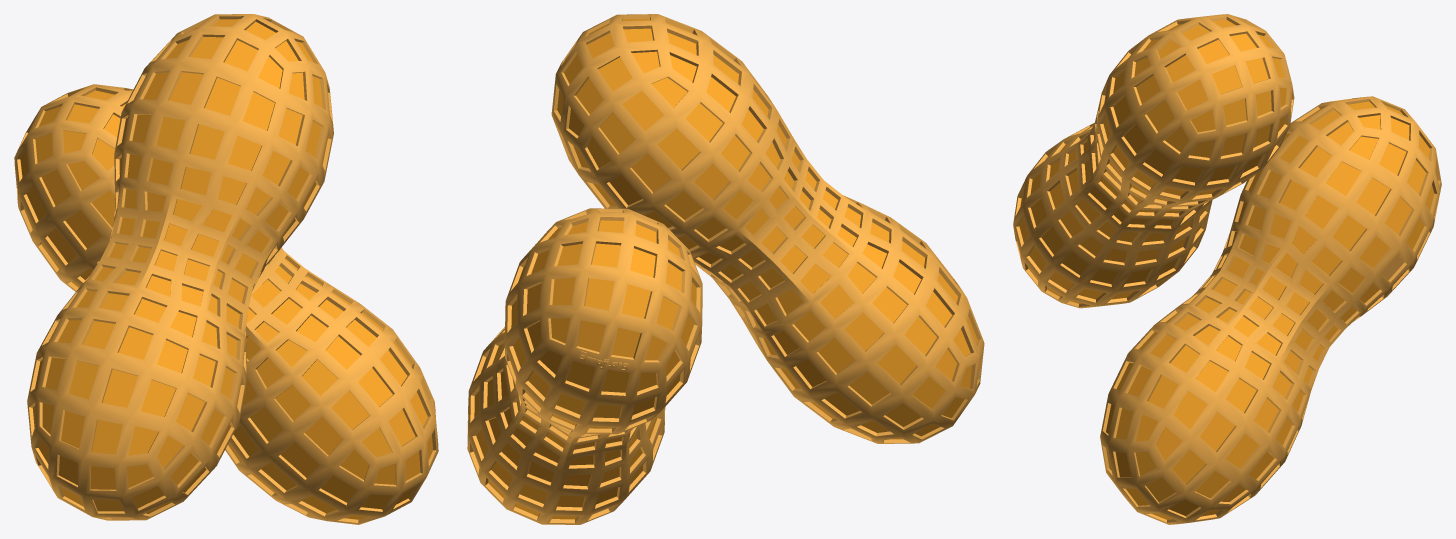
Rendered from peanuts.fbx.
3 views of the same model, side by side, from view 1: azimuth 30°, elevation 25°; view 2: azimuth 150°, elevation 25°; view 3: azimuth 270°, elevation 25° (orthographic). The views are drawn at different scales.
Visible parts, largest first — view 1: Cube.348; view 2: Cube.348; view 3: Cube.348.
Boxes of the visible parts, box(x1,y1,x2,y2) form: Cube.348: box(14, 14, 438, 524); Cube.348: box(467, 14, 984, 524); Cube.348: box(1013, 14, 1441, 524).
Bounding box in the file's own units: 207 × 234 × 201.
Materials: 1 (1 with a texture image).
